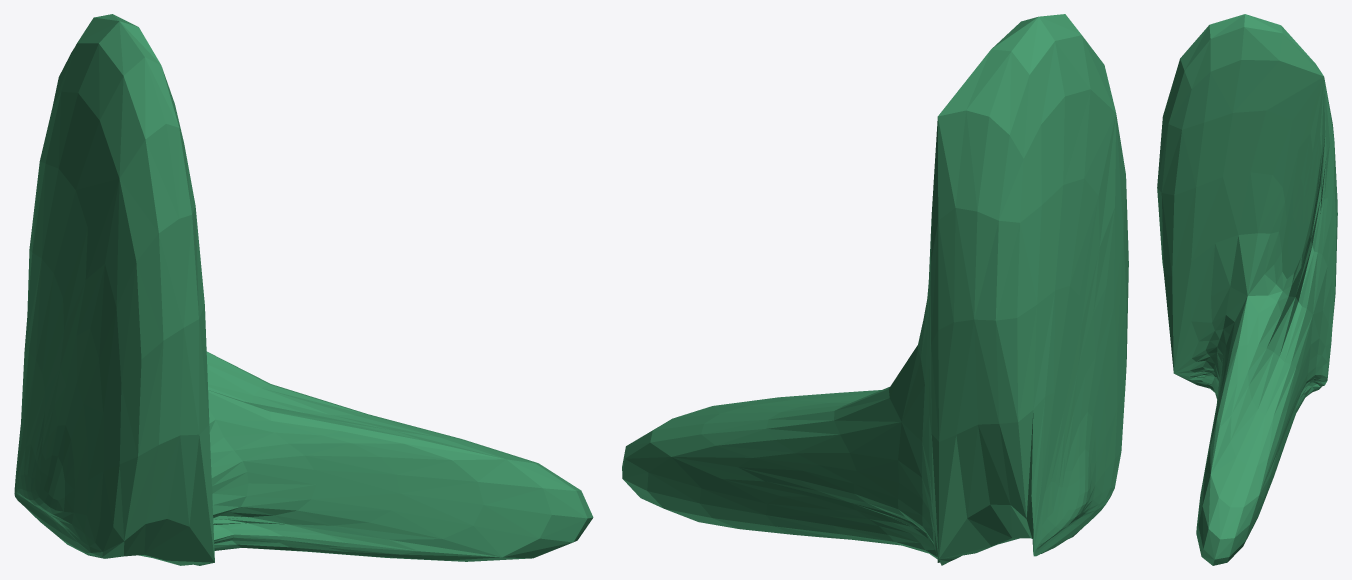
3 renders of one model, left to right at view 1: azimuth 30°, elevation 25°; view 2: azimuth 150°, elevation 25°; view 3: azimuth 270°, elevation 25°, orthographic. The views are drawn at different scales.
Parts seen in each view (by area): view 1: 435_Cube.1767; view 2: 435_Cube.1767; view 3: 435_Cube.1767.
Boxes of the visible parts, x1,y1,x2,y2 form: 435_Cube.1767: (14,14,593,565); 435_Cube.1767: (622,14,1128,565); 435_Cube.1767: (1157,14,1337,565).
Size of the model in its own units: 10.92 by 12.52 by 4.96.
